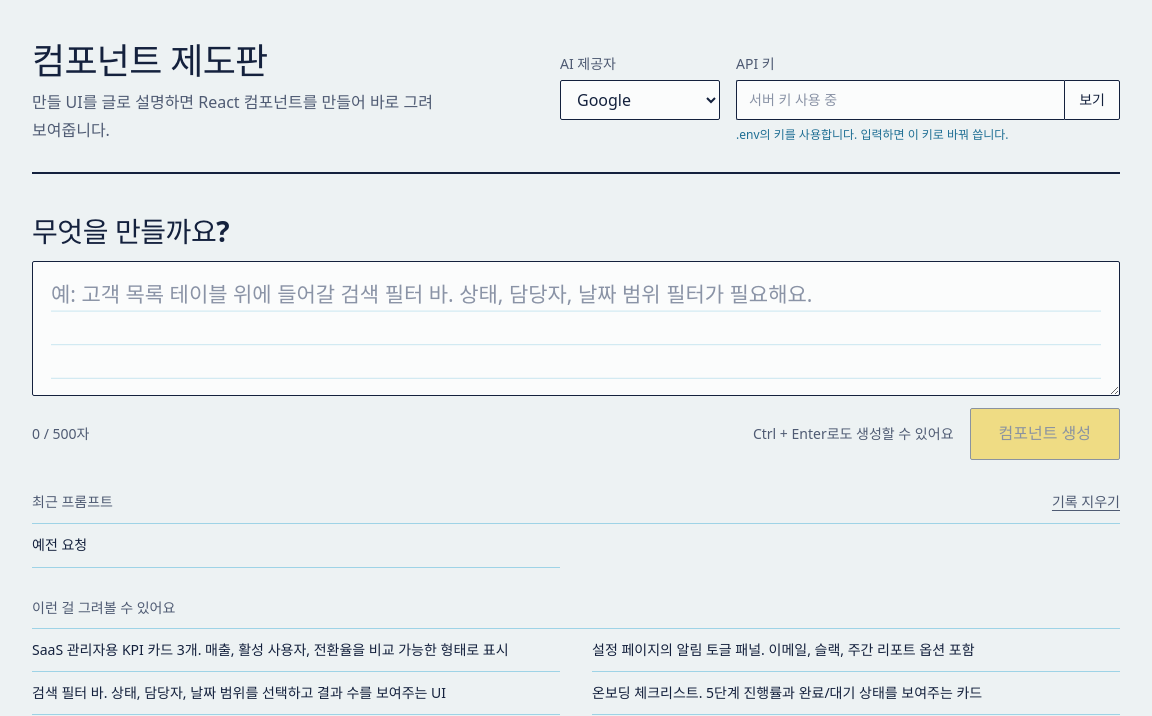
it: App 상태 유지 › 기록 지우기를 누르면 저장된 프롬프트 히스토리를 비운다
The image size is (1152, 716).
Step 1. Click the button "기록 지우기" → click(1086, 501), box x1=1052 y1=488 x2=1120 y2=515
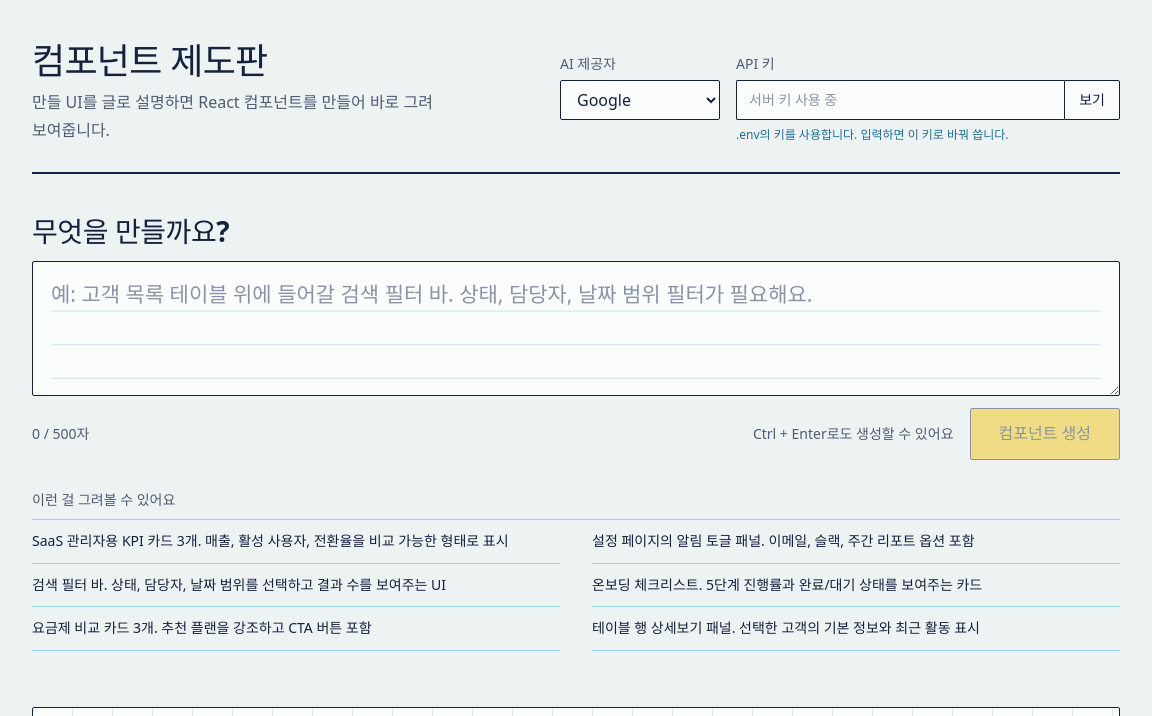
Expected: the heading "최근 프롬프트" is gone
